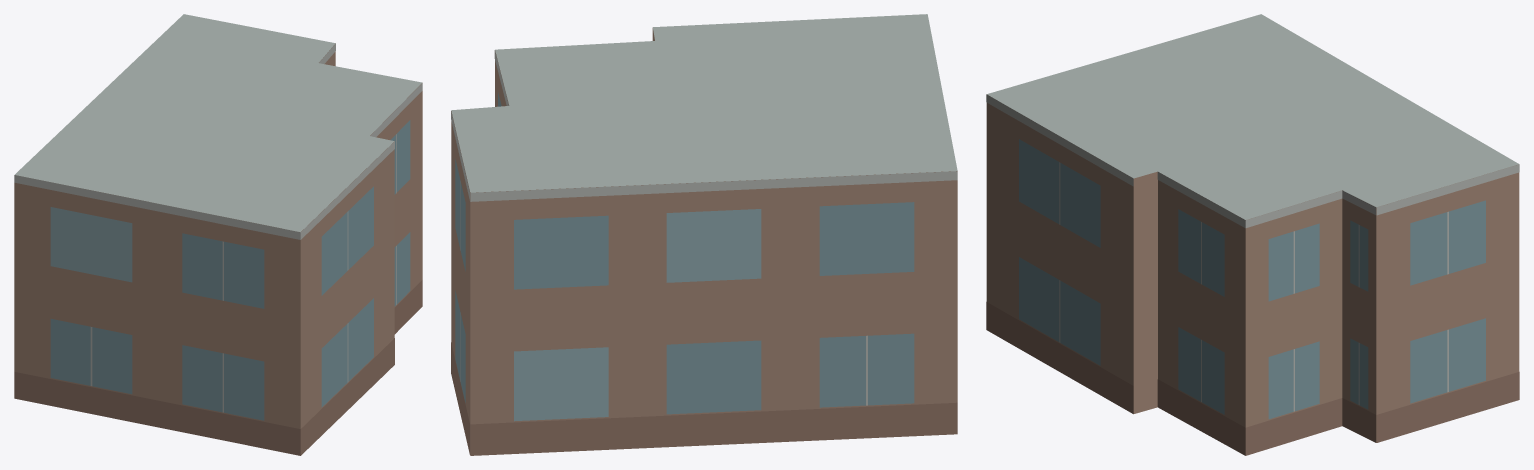
Rendered from survey-upis-32726636.glb.
3 renders of one model, left to right at view 1: azimuth 30°, elevation 25°; view 2: azimuth 150°, elevation 25°; view 3: azimuth 270°, elevation 25°, orthographic. The views are drawn at different scales.
Visible parts, largest first — view 1: survey-upis-32726636.tmp; view 2: survey-upis-32726636.tmp; view 3: survey-upis-32726636.tmp.
Part boxes in pixels (x1,y1,x2,y2): survey-upis-32726636.tmp: [14, 14, 422, 455]; survey-upis-32726636.tmp: [451, 14, 957, 455]; survey-upis-32726636.tmp: [986, 14, 1519, 455].
Size of the model in its own units: 13.13 by 7 by 14.35.
